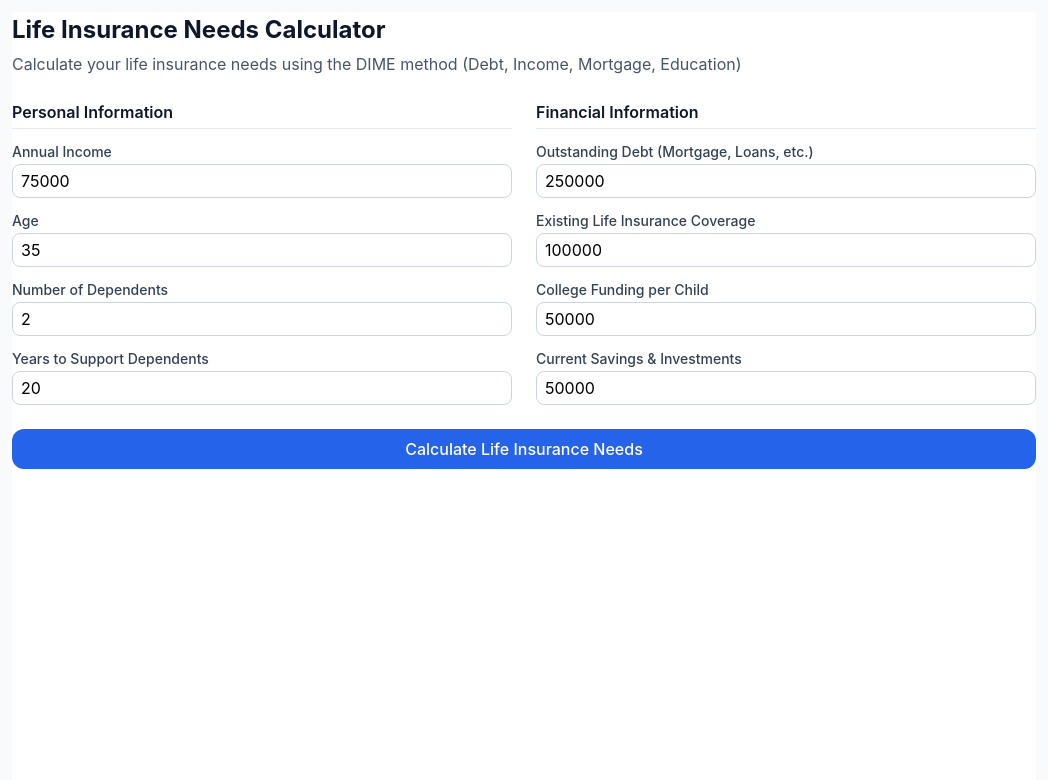
Test: Life Insurance Calculator › calculates life insurance needs
The width and height of the screenshot is (1048, 780).
Click the button "Calculate Life Insurance Needs".
click(524, 449)  # box [12,429,1036,469]
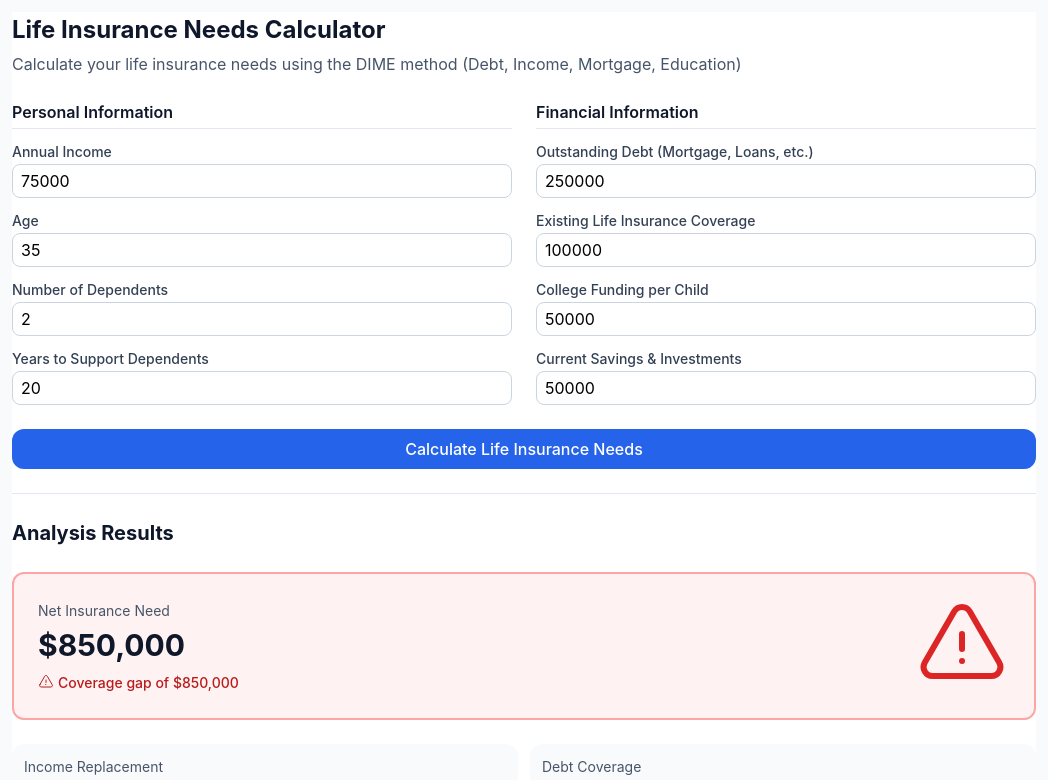
Now the heading "Analysis Results" is shown, box [12,521,174,545]
Now the text "Coverage gap of $850,000" is shown, box [38,672,239,692]
